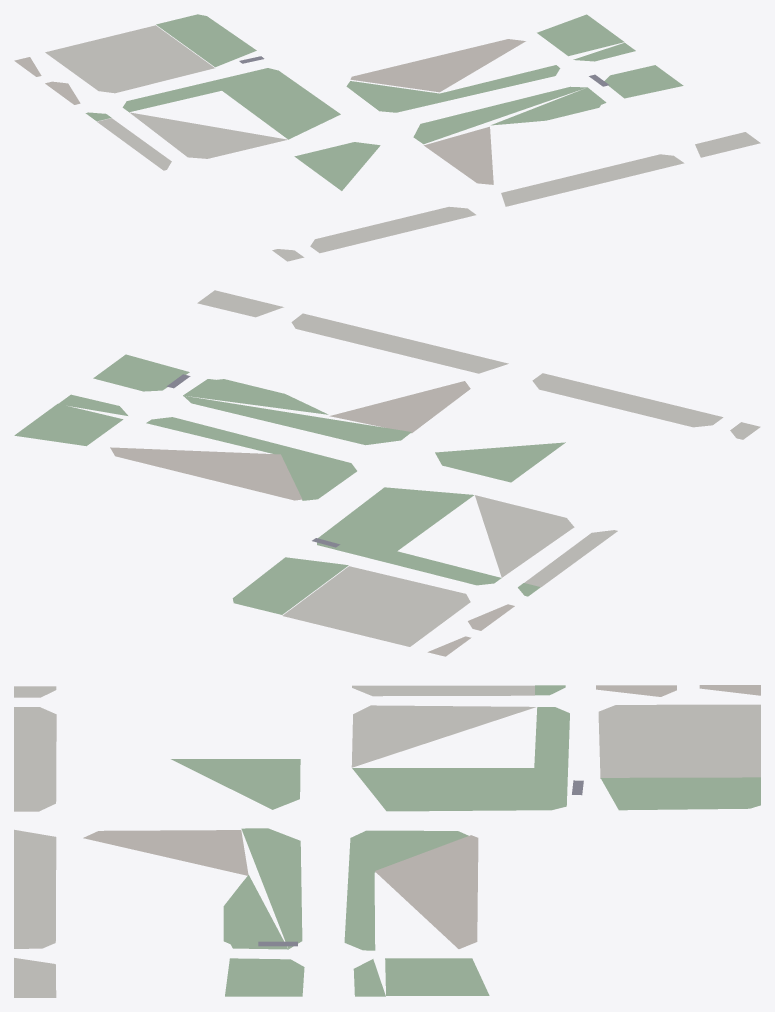
Rendered from 124_70_mid.glb.
3 views of the same model, one above another, from view 1: azimuth 30°, elevation 25°; view 2: azimuth 150°, elevation 25°; view 3: azimuth 270°, elevation 25° (orthographic). The views are drawn at different scales.
Size of the model in its own units: 500 by 10.68 by 500.
